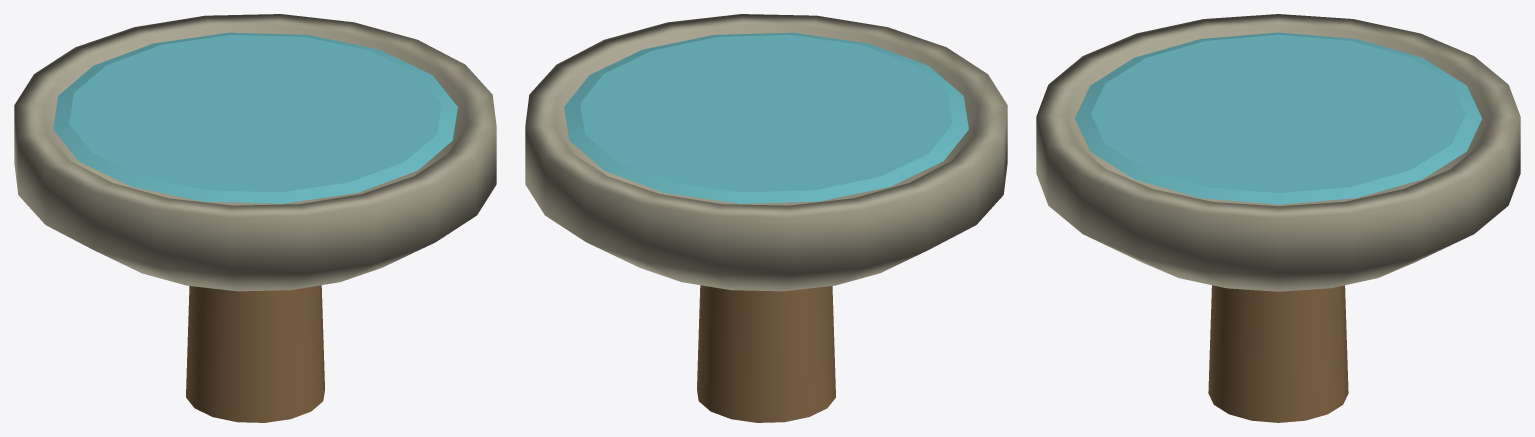
The model's file is fixture-giraffe-water-v01.glb.
3 views of the same model, side by side, from view 1: azimuth 30°, elevation 25°; view 2: azimuth 150°, elevation 25°; view 3: azimuth 270°, elevation 25° (orthographic).
Visible parts, largest first — view 1: bowl, surface, bowl-support; view 2: bowl, surface, bowl-support; view 3: bowl, surface, bowl-support.
Boxes of the visible parts, <box> form: bowl: <box>14,14,496,291</box>; surface: <box>53,32,457,203</box>; bowl-support: <box>186,285,324,422</box>; bowl: <box>525,14,1007,291</box>; surface: <box>564,32,968,203</box>; bowl-support: <box>697,285,835,422</box>; bowl: <box>1036,14,1520,291</box>; surface: <box>1074,32,1482,204</box>; bowl-support: <box>1208,285,1348,422</box>.
Size of the model in its own units: 0.38 by 0.242 by 0.38.
